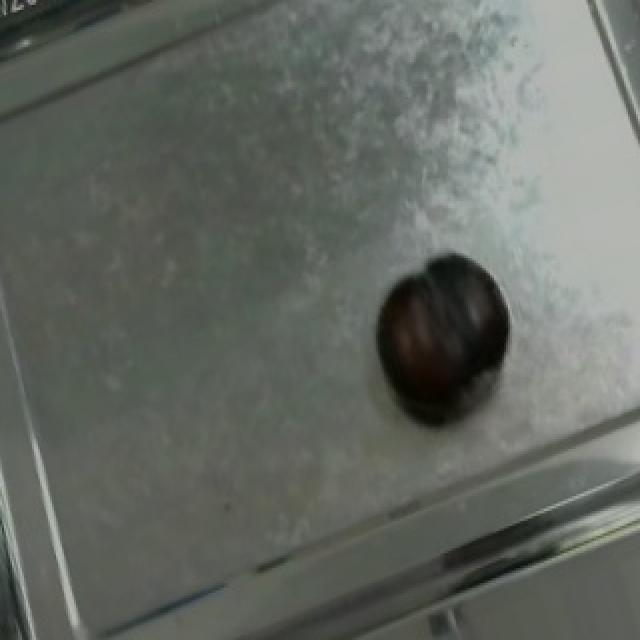Fruit: (356, 236, 532, 427)
